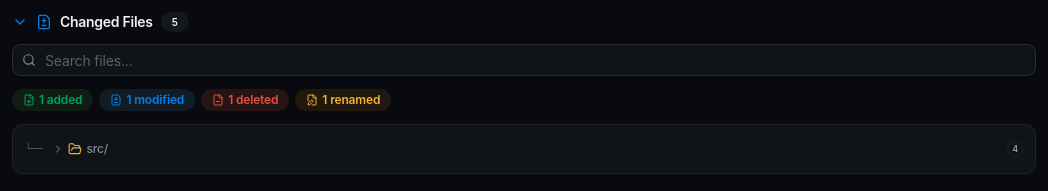
Test case: ChangedFilesSection › search functionality › should show clear button when search has value
Type "test" into the field with placeholder "Search files..." at (524, 60), box [12,44,1036,76]
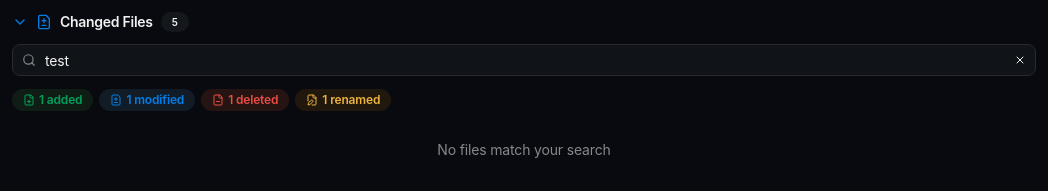
Expected: the button with class "lucide-x" is shown, [1008,48,1032,72]
